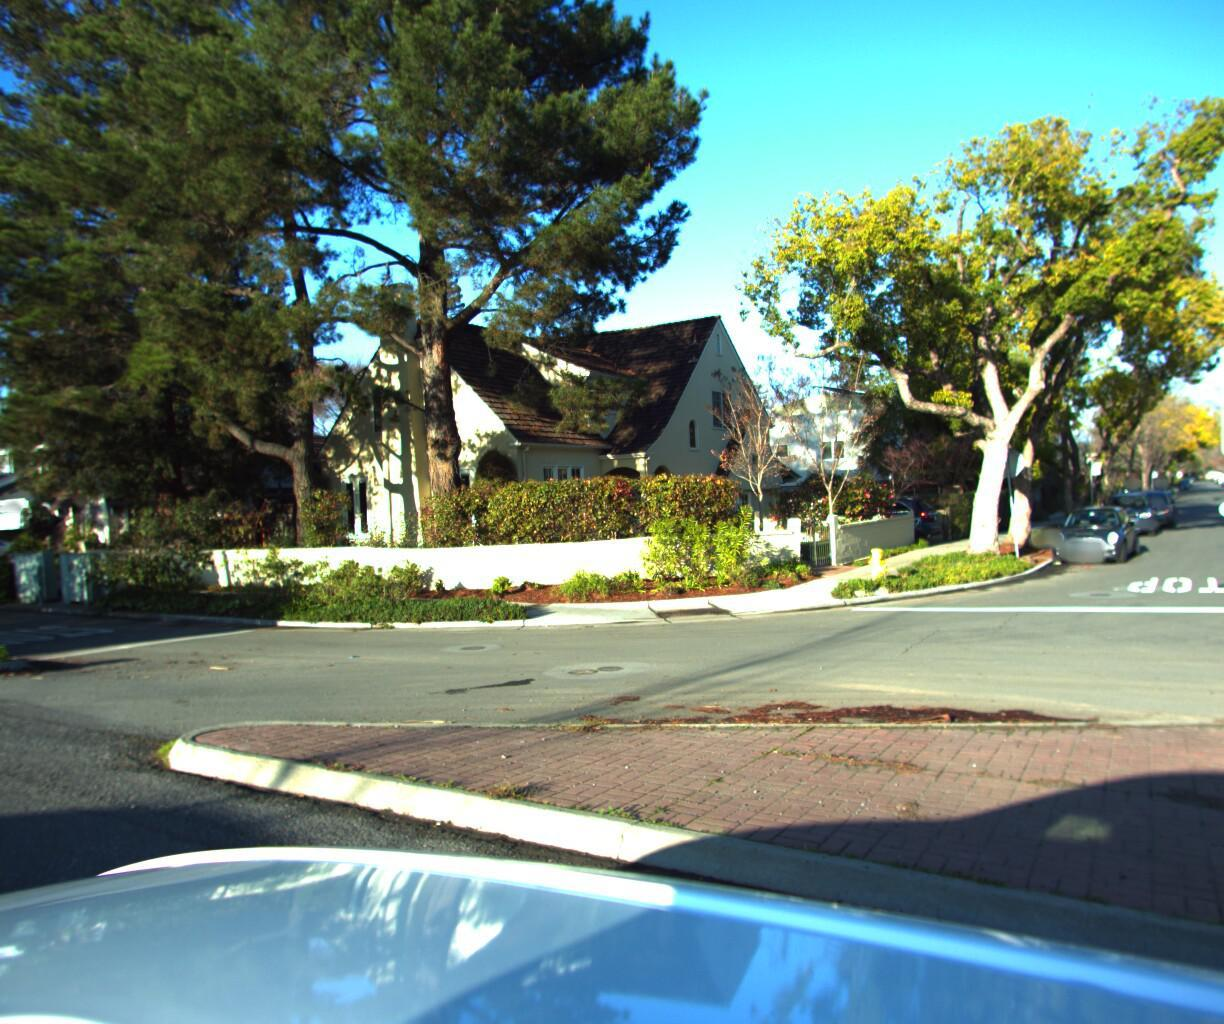car: (1035, 497, 1135, 563), (828, 490, 944, 540), (1094, 483, 1154, 531), (0, 527, 38, 589), (1116, 479, 1166, 522)
